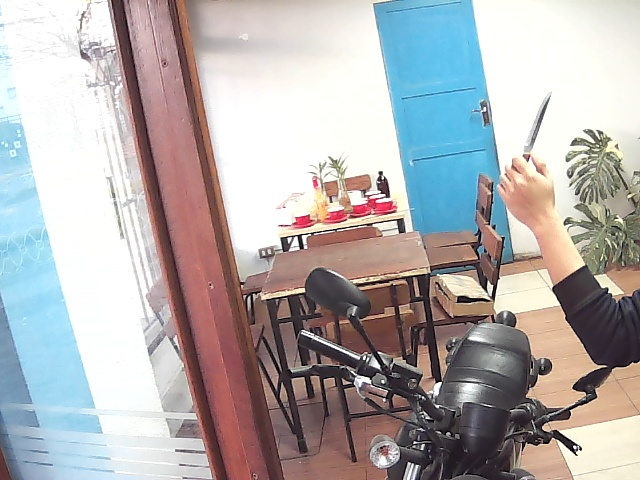cuchillo: (487, 83, 563, 228)
